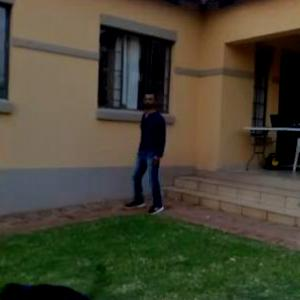follow: (130, 85, 169, 216)
